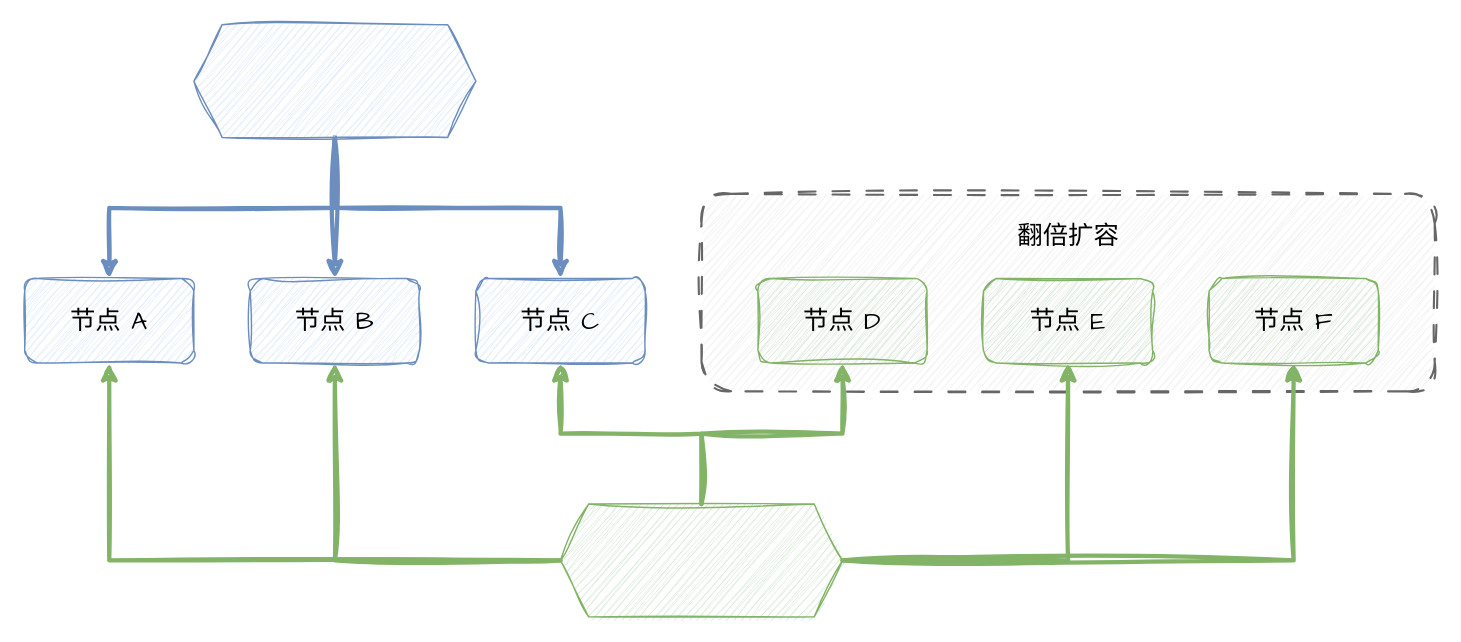
The diagram is 1461 pixels wide and 642 high, and some of its shapes have lost their labels. Each missing label, with the centre of its shape:
hash(key)%3: point (334, 80)
hash(key)%6: point (700, 560)
